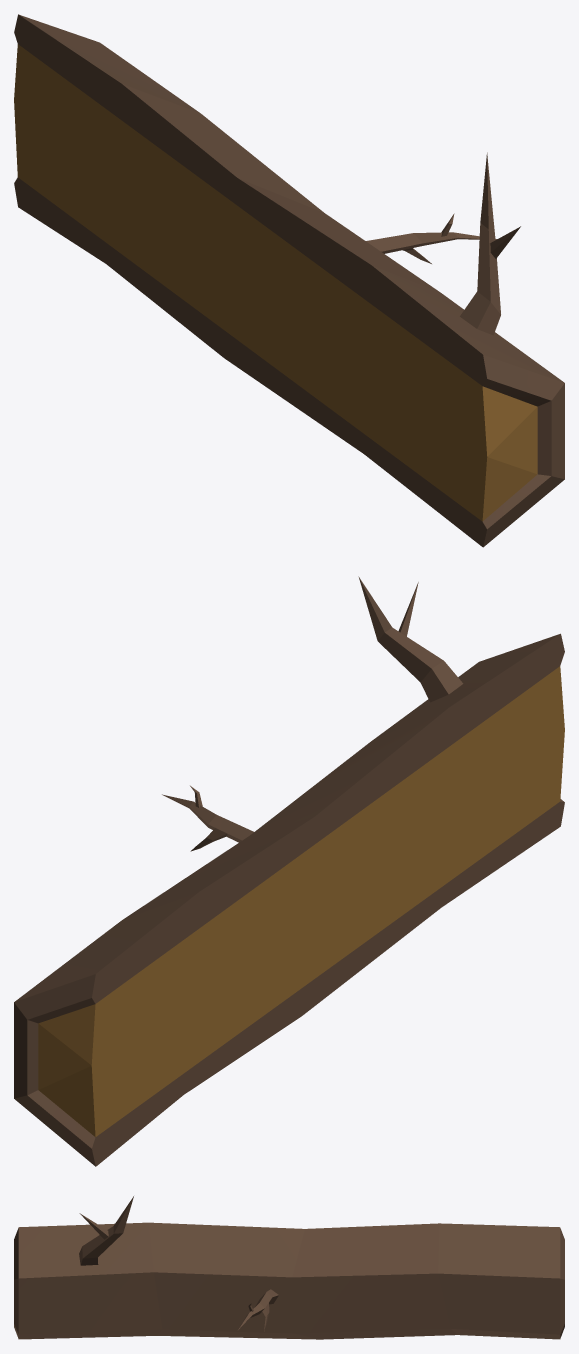
File: tree_pine_log_6.fbx
The picture shows the model from 3 angles, top to bottom: view 1: azimuth 30°, elevation 25°; view 2: azimuth 150°, elevation 25°; view 3: azimuth 270°, elevation 25°; orthographic projection. The views are drawn at different scales.
Parts seen in each view (by area): view 1: tree_pine_log_6; view 2: tree_pine_log_6; view 3: tree_pine_log_6.
Boxes of the visible parts, bbox=[...] form: tree_pine_log_6: bbox=[14, 14, 564, 547]; tree_pine_log_6: bbox=[14, 576, 564, 1166]; tree_pine_log_6: bbox=[14, 1196, 564, 1339].
Size of the model in its own units: 103 by 138 by 398.
